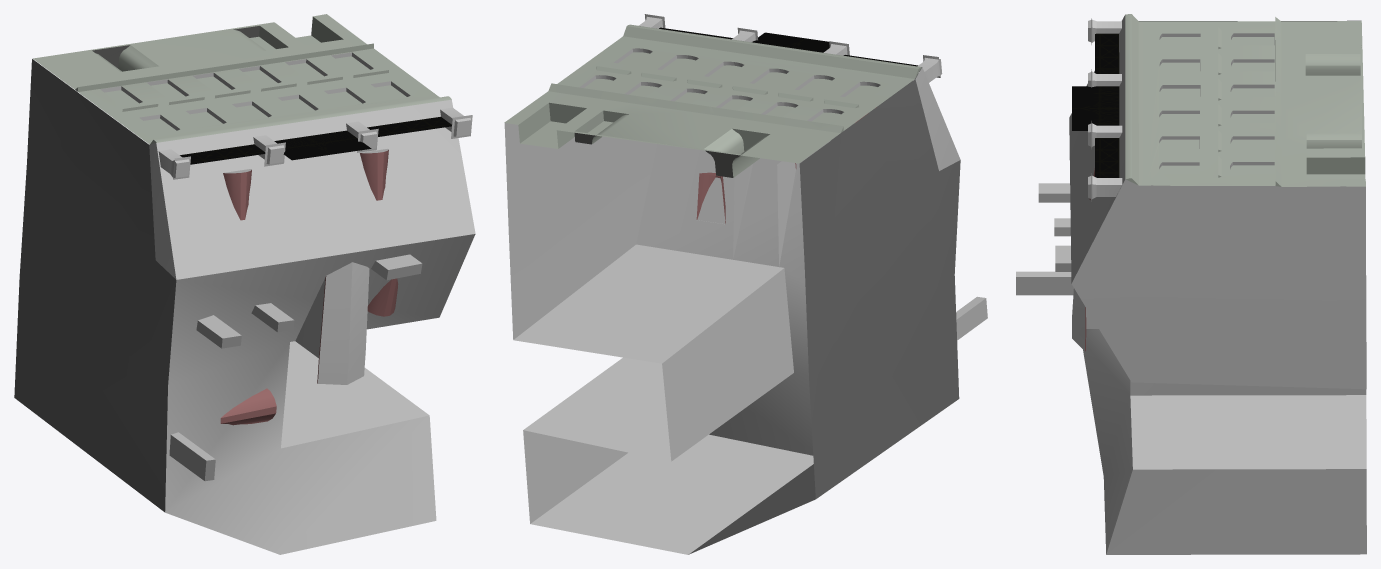
The model's file is Viru-6.obj.
The picture shows the model from 3 angles, left to right: view 1: azimuth 30°, elevation 25°; view 2: azimuth 150°, elevation 25°; view 3: azimuth 270°, elevation 25°; orthographic projection. The views are drawn at different scales.
Parts seen in each view (by area): view 1: Viru_6; view 2: Viru_6; view 3: Viru_6.
Part boxes in pixels (box(x1,y1,x2,y2)): Viru_6: box(14, 14, 475, 554); Viru_6: box(504, 14, 987, 554); Viru_6: box(1016, 14, 1366, 554).
Size of the model in its own units: 17.35 by 22.94 by 17.55.
